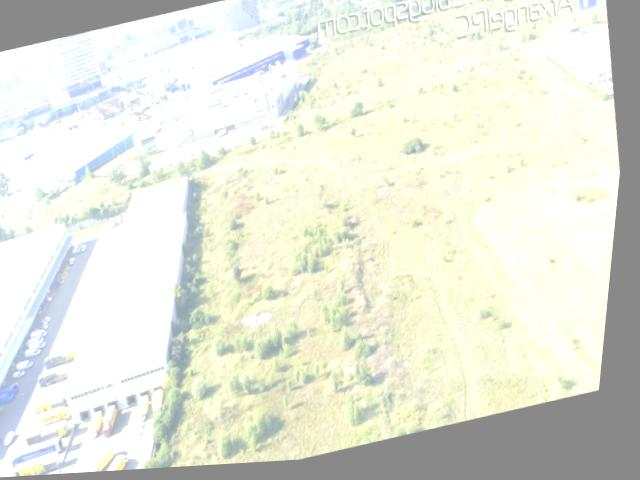plane: (249, 310, 281, 335)
